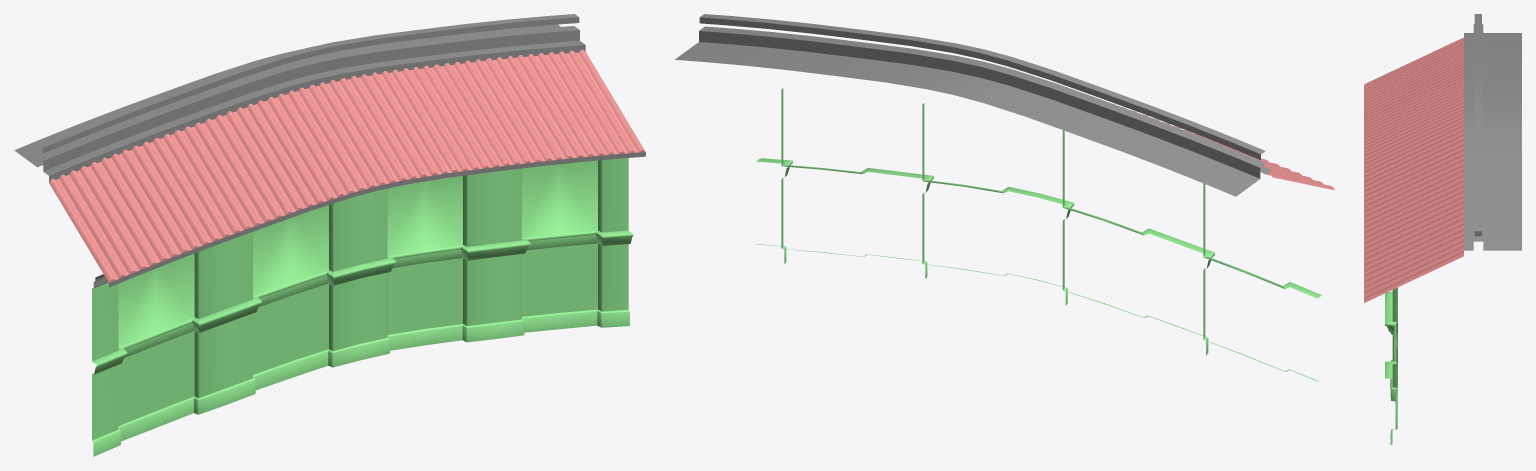
Rendered from LV_Terny_Rosso_BridgeDeco02_SM_EYE.gltf.
The picture shows the model from 3 angles, left to right: view 1: azimuth 30°, elevation 25°; view 2: azimuth 150°, elevation 25°; view 3: azimuth 270°, elevation 25°; orthographic projection. The views are drawn at different scales.
Visible parts, largest first — view 1: LV_Terny_Rosso_BridgeDeco02_SM_EYE; view 2: LV_Terny_Rosso_BridgeDeco02_SM_EYE; view 3: LV_Terny_Rosso_BridgeDeco02_SM_EYE.
Part boxes in pixels (x1,y1,x2,y2): LV_Terny_Rosso_BridgeDeco02_SM_EYE: (14,14,645,456); LV_Terny_Rosso_BridgeDeco02_SM_EYE: (675,14,1334,381); LV_Terny_Rosso_BridgeDeco02_SM_EYE: (1364,14,1521,444).
Bounding box in the file's own units: 4.8 × 2.59 × 1.47.
